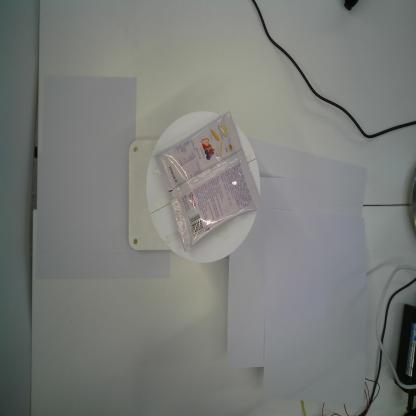Instant Drink: (153, 110, 261, 253)
